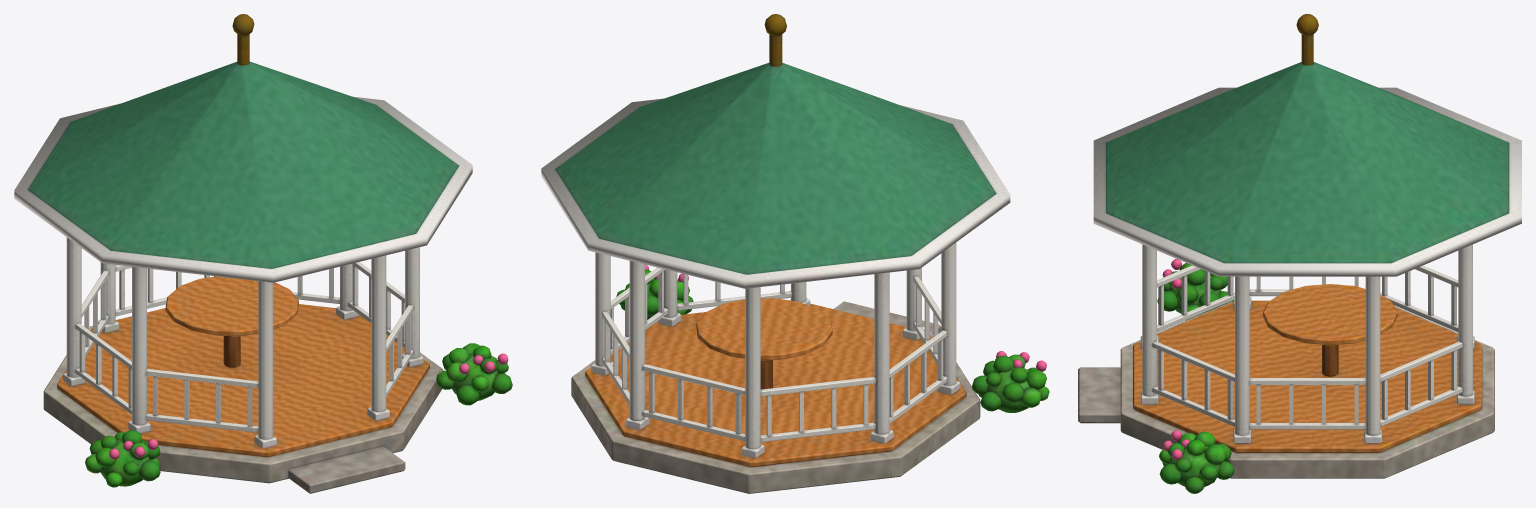
The model's file is gazebo.glb.
3 renders of one model, left to right at view 1: azimuth 30°, elevation 25°; view 2: azimuth 150°, elevation 25°; view 3: azimuth 270°, elevation 25°, orthographic. The views are drawn at different scales.
Visible parts, largest first — view 1: gazebo; view 2: gazebo; view 3: gazebo.
Part boxes in pixels (left/top/right/bottom): gazebo: left=14, top=14, right=512, bottom=493; gazebo: left=541, top=14, right=1049, bottom=493; gazebo: left=1078, top=14, right=1521, bottom=493.
Bounding box in the file's own units: 2.14 × 1.89 × 1.97.
1 material, 1 textured.
